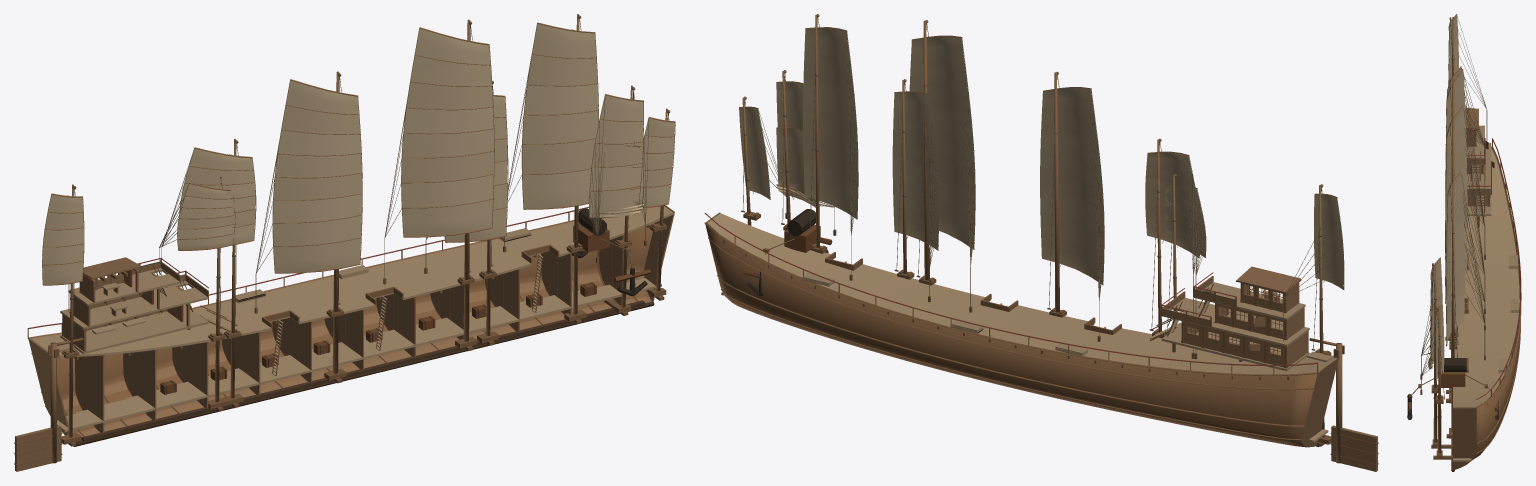
File: baochuan-section.glb
The picture shows the model from 3 angles, left to right: view 1: azimuth 30°, elevation 25°; view 2: azimuth 150°, elevation 25°; view 3: azimuth 270°, elevation 25°; orthographic projection. The views are drawn at different scales.
Visible parts, largest first — view 1: Battened sail panels.013_WEB, Battened sail panels.012_WEB, Battened sail panels.014_WEB, Port planked shell.001_WEB, Battened sail panels.016_WEB, Battened sail panels.011_WEB, Battened sail panels.009_WEB, Battened sail panels.010_WEB, Keelson.001_WEB, Battened sail panels.021_WEB, Level floor.001_WEB, Battened sail panels.015_WEB (+33 smaller); view 2: Port planked shell.001_WEB, Battened sail panels.012_WEB, Battened sail panels.014_WEB, Battened sail panels.013_WEB, Battened sail panels.015_WEB, Battened sail panels.011_WEB, Battened sail panels.009_WEB, Battened sail panels.021_WEB, Battened sail panels.017_WEB, Rudder blade.001_WEB, Stern transom.001_WEB, Walkable roof.008_WEB (+19 smaller); view 3: Battened sail panels.014_WEB, Port planked shell.001_WEB, Battened sail panels.013_WEB, Bow closure.001_WEB, Battened sail panels.012_WEB, Tapered mast.014_WEB, Main deck plank.070_WEB, Walkable roof.008_WEB, Tapered mast.016_WEB, Main deck plank.062_WEB, anchor baseline 13.001_WEB, Main deck plank.061_WEB (+43 smaller).
Part boxes in pixels (x1,y1,x2,y2): Battened sail panels.013_WEB: (401,28,493,236); Battened sail panels.012_WEB: (272,79,362,272); Battened sail panels.014_WEB: (521,24,598,208); Port planked shell.001_WEB: (31,221,654,436); Battened sail panels.016_WEB: (589,95,643,215); Battened sail panels.011_WEB: (179,148,255,243); Battened sail panels.009_WEB: (42,194,83,284); Battened sail panels.010_WEB: (177,184,234,249); Keelson.001_WEB: (81,300,644,442); Battened sail panels.021_WEB: (643,118,674,206); Level floor.001_WEB: (60,305,208,354); Battened sail panels.015_WEB: (444,96,507,241); Port planked shell.001_WEB: (705,223,1317,447); Battened sail panels.012_WEB: (1040,88,1104,284); Battened sail panels.014_WEB: (803,28,858,218); Battened sail panels.013_WEB: (909,36,975,249); Battened sail panels.015_WEB: (892,92,938,249); Battened sail panels.011_WEB: (1145,152,1200,257); Battened sail panels.009_WEB: (1314,194,1343,289); Battened sail panels.021_WEB: (739,107,769,198); Battened sail panels.017_WEB: (776,128,815,206); Rudder blade.001_WEB: (1331,425,1377,471); Stern transom.001_WEB: (1302,357,1338,447); Walkable roof.008_WEB: (1175,301,1309,346); Battened sail panels.014_WEB: (1446,172,1464,343); Port planked shell.001_WEB: (1473,147,1520,459); Battened sail panels.013_WEB: (1445,106,1467,298); Bow closure.001_WEB: (1453,406,1476,470); Battened sail panels.012_WEB: (1445,70,1466,180); Tapered mast.014_WEB: (1451,183,1454,432); Main deck plank.070_WEB: (1455,328,1516,336); Walkable roof.008_WEB: (1467,143,1491,188); Tapered mast.016_WEB: (1433,263,1437,442); Main deck plank.062_WEB: (1465,280,1519,288); anchor baseline 13.001_WEB: (1407,372,1498,411); Main deck plank.061_WEB: (1465,272,1518,280).
Bounding box in the file's own units: 64.81 × 31.94 × 11.64.
23 materials, 10 textured.
